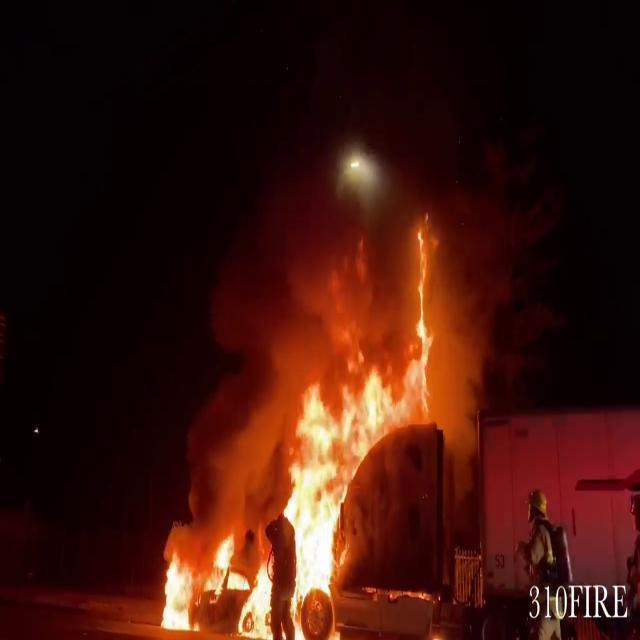Fire: (147, 355, 395, 640), (408, 218, 438, 430)
Smoke: (206, 190, 402, 468)
